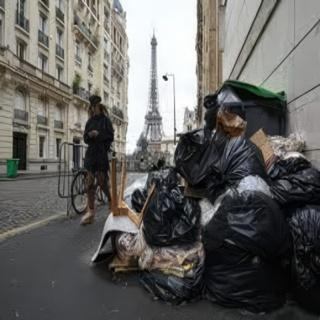Garbage: (201, 188, 289, 311), (173, 128, 265, 188), (142, 178, 200, 249), (284, 207, 319, 315), (262, 153, 319, 208)
